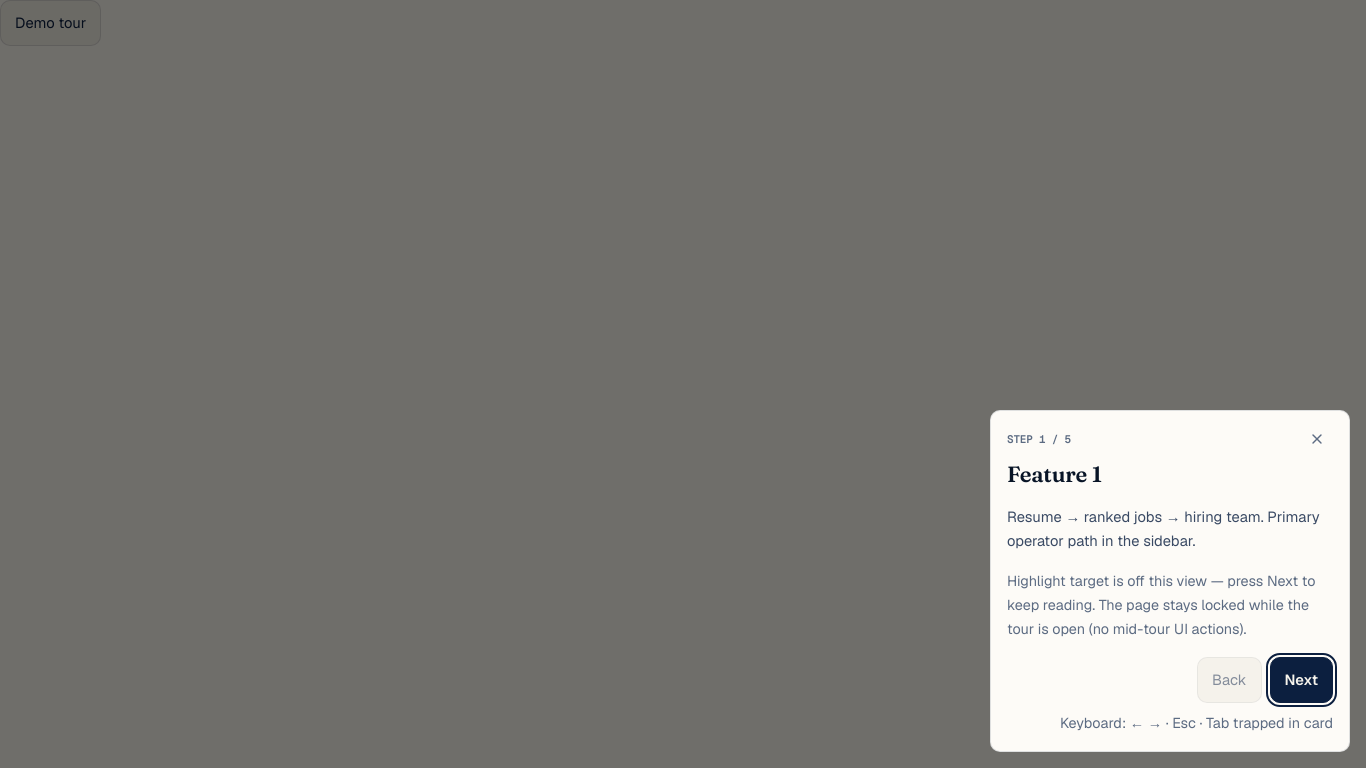
Test case: DemoTour › disables Back on step 0; ArrowRight advances; ArrowLeft goes back
Expected: the button with test id "demo-tour-prev" is disabled, [1197,657,1262,703]
Expected: the text with test id "demo-tour-step-label" reads "Step 1 / 5", [1007,431,1071,447]
Press ArrowRight
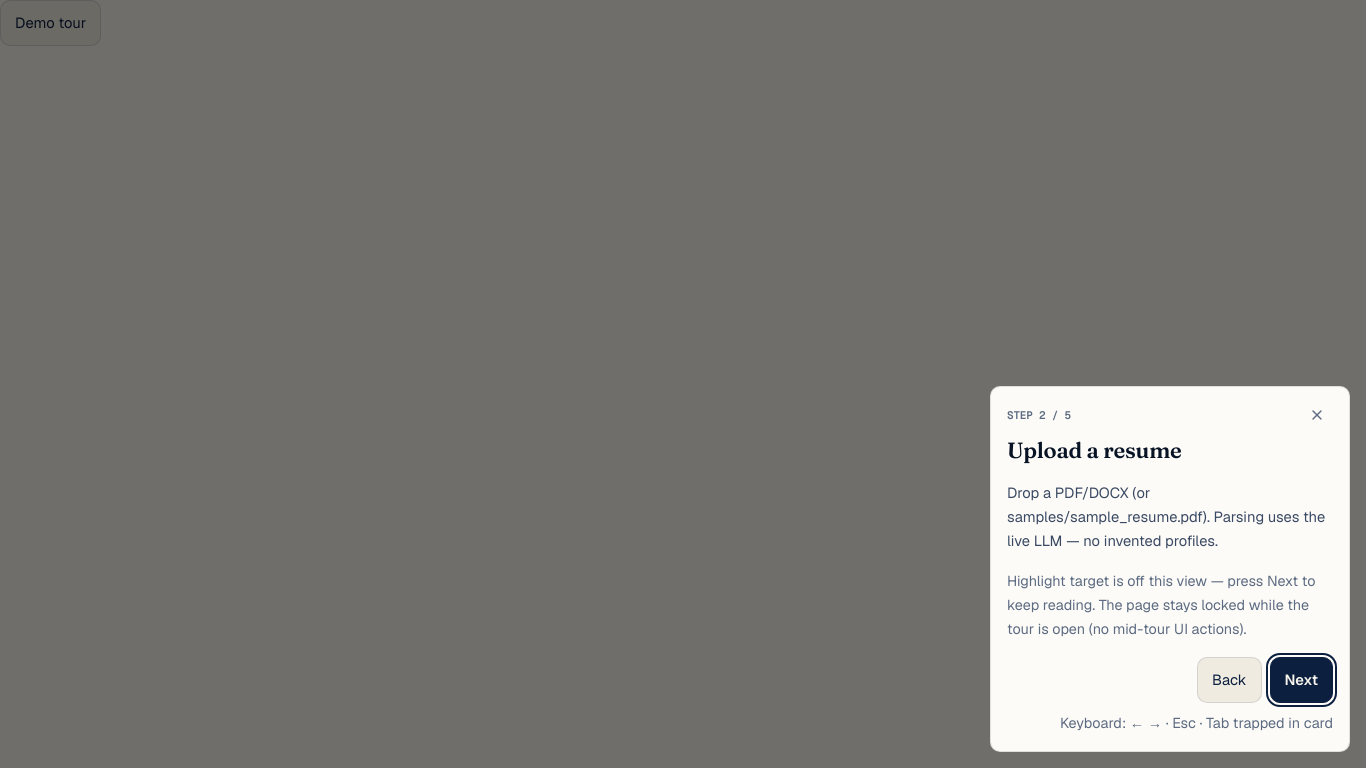
Expected: the text with test id "demo-tour-step-label" reads "Step 2 / 5", [1007,407,1071,423]
Expected: the button with test id "demo-tour-prev" is enabled, [1197,657,1262,703]
Press ArrowLeft
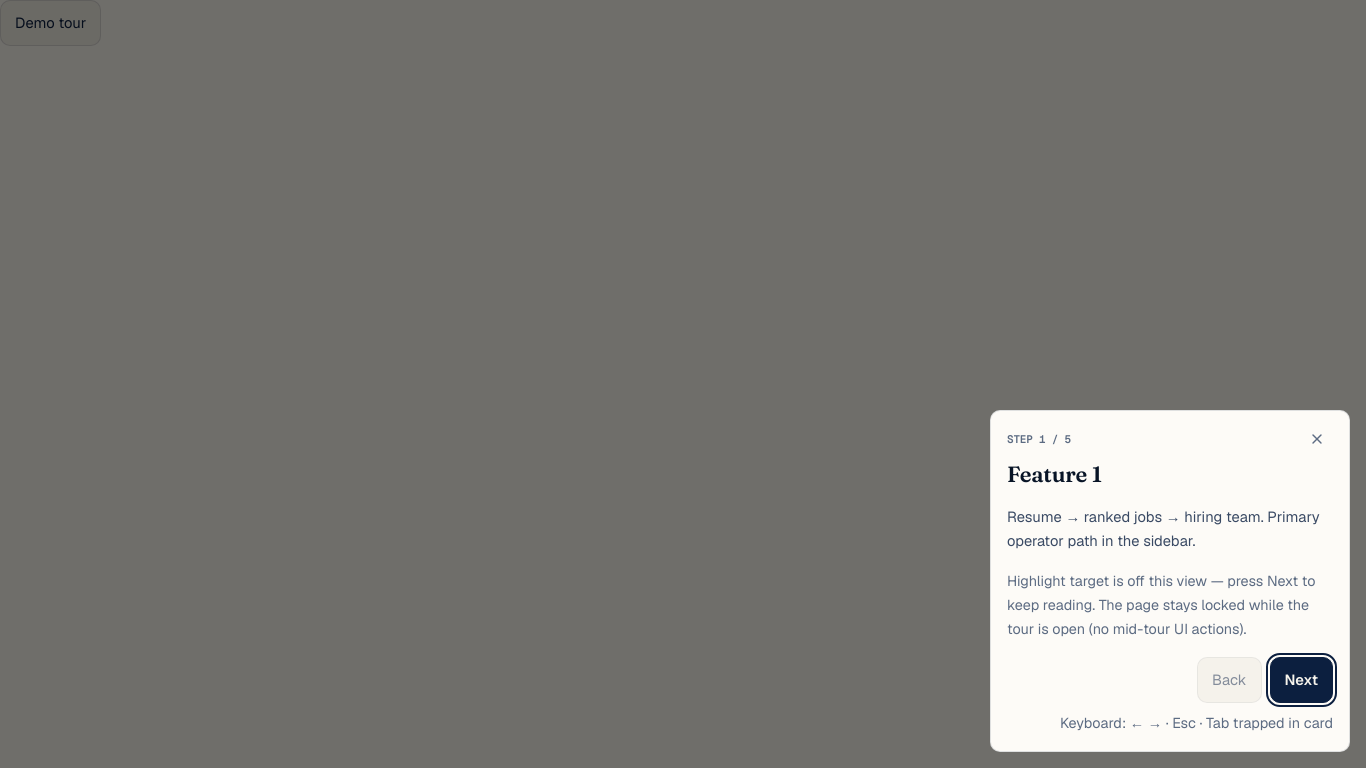
Expected: the text with test id "demo-tour-step-label" reads "Step 1 / 5", [1007,431,1071,447]
Click the button with test id "demo-tour-next": (1301, 680) [1270,657,1333,703]
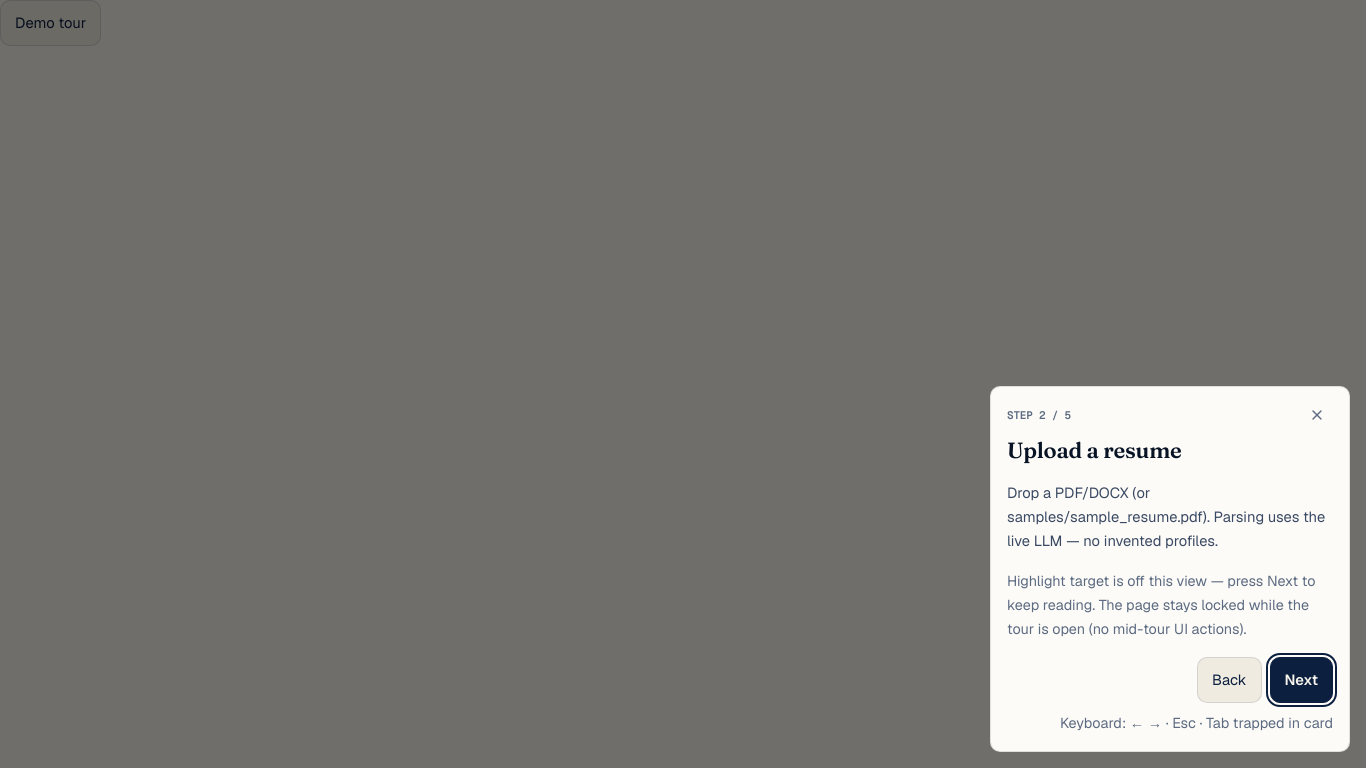
Expected: the text with test id "demo-tour-step-label" reads "Step 2 / 5", [1007,407,1071,423]
Click the button with test id "demo-tour-prev": (1229, 680) [1197,657,1262,703]
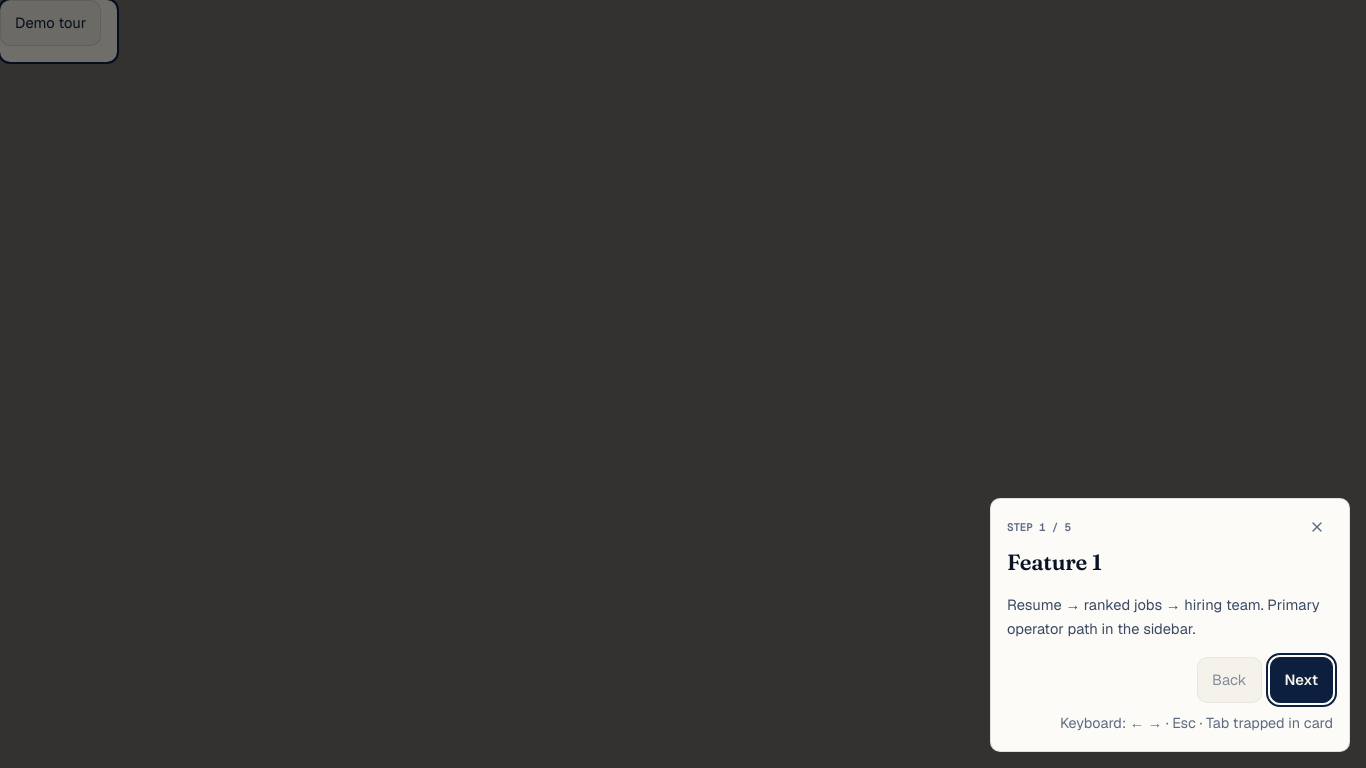
Expected: the text with test id "demo-tour-step-label" reads "Step 1 / 5", [1007,519,1071,535]
